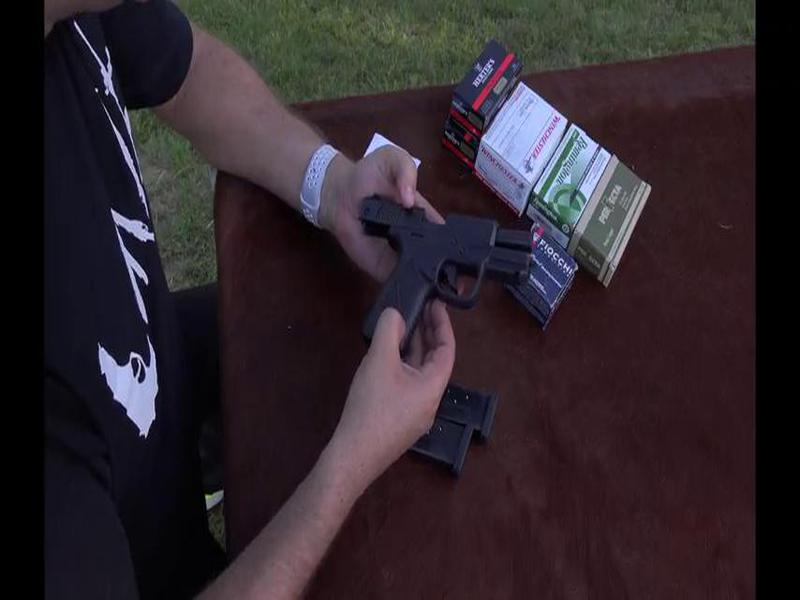Pistola: (349, 180, 549, 366)
